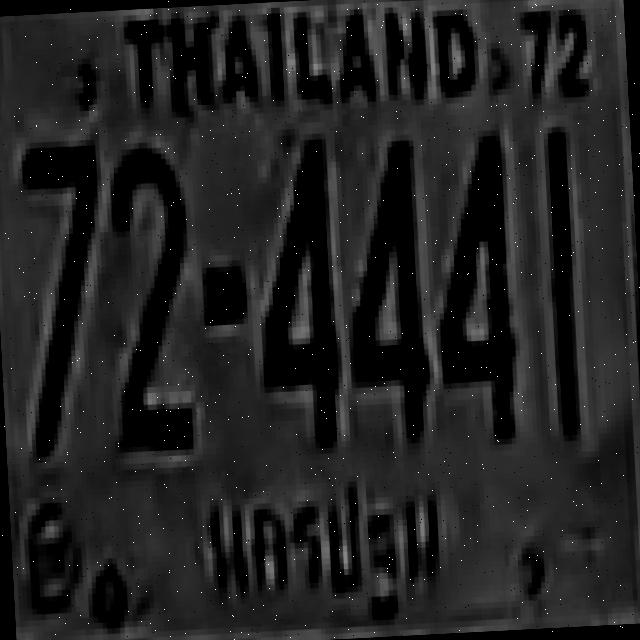2: (104, 143, 192, 410)
4: (247, 133, 341, 440), (426, 130, 516, 442), (339, 134, 429, 440)
7: (17, 140, 102, 376), (17, 140, 102, 352), (16, 140, 100, 323)
NakhonPathom: (187, 461, 447, 634)
